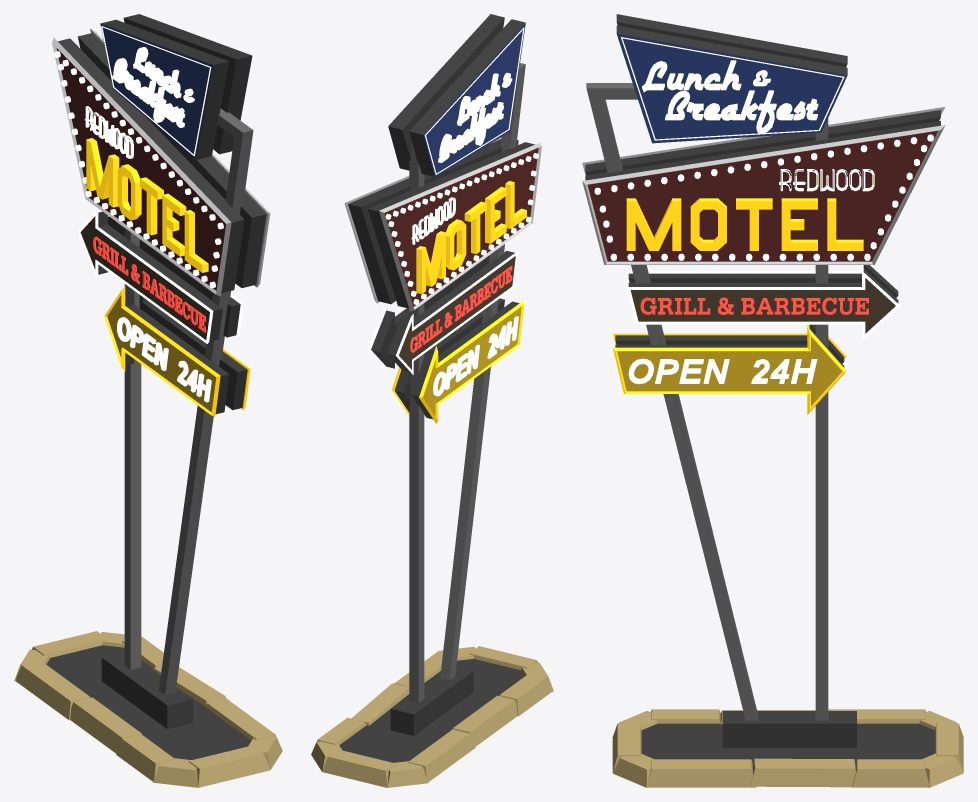
Rendered from SM_motel_sign.gltf.
3 views of the same model, side by side, from view 1: azimuth 30°, elevation 25°; view 2: azimuth 150°, elevation 25°; view 3: azimuth 270°, elevation 25° (orthographic). The views are drawn at different scales.
Visible parts, largest first — view 1: SM_motel_sign; view 2: SM_motel_sign; view 3: SM_motel_sign.
Boxes of the visible parts, bbox=[...] form: SM_motel_sign: bbox=[14, 14, 282, 787]; SM_motel_sign: bbox=[311, 14, 553, 787]; SM_motel_sign: bbox=[582, 14, 963, 787].
Bounding box in the file's own units: 1.27 × 6.69 × 3.16.
1 material, 1 textured.
